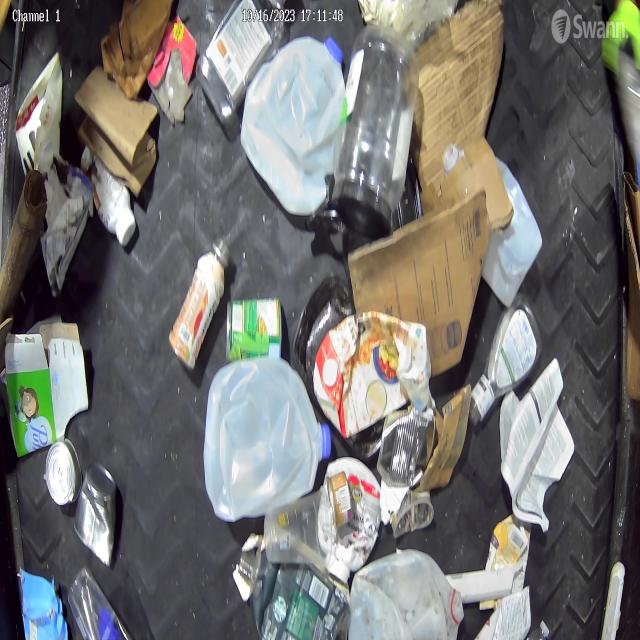can: (376, 405, 436, 488), (224, 296, 284, 364), (73, 468, 115, 564), (44, 437, 84, 505)
milk_jug: (205, 358, 325, 508), (242, 39, 345, 201), (348, 547, 466, 640)
